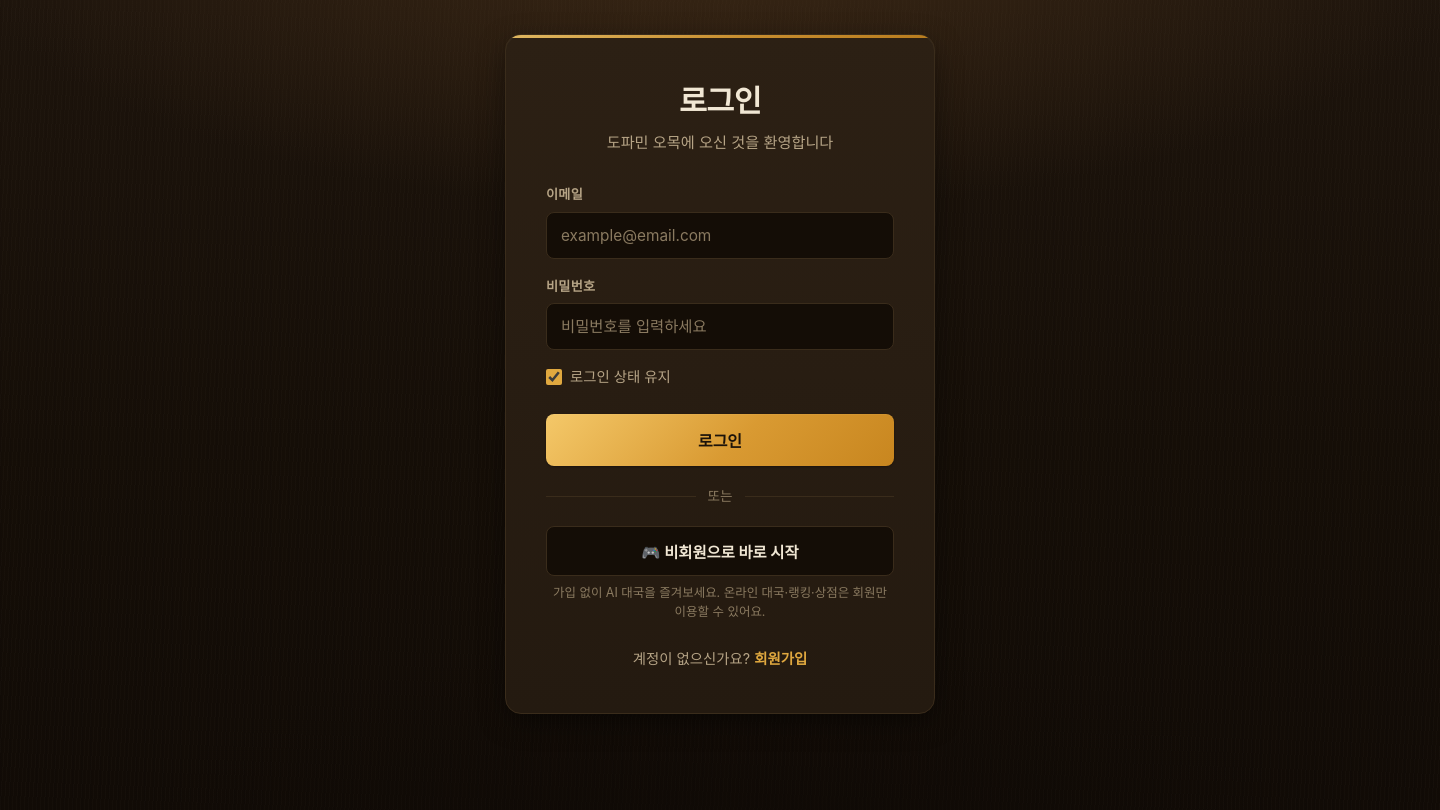
Test: LoginPage - 이메일 로그인 › 비밀번호가 틀리면(401) 아이디/비밀번호 불일치가 아닌 서버 상세 메시지를 노출하지 않는다
Type "test@test.com" into the field labelled "이메일".
click(720, 235); type("test@test.com")  # box [546,212,894,259]
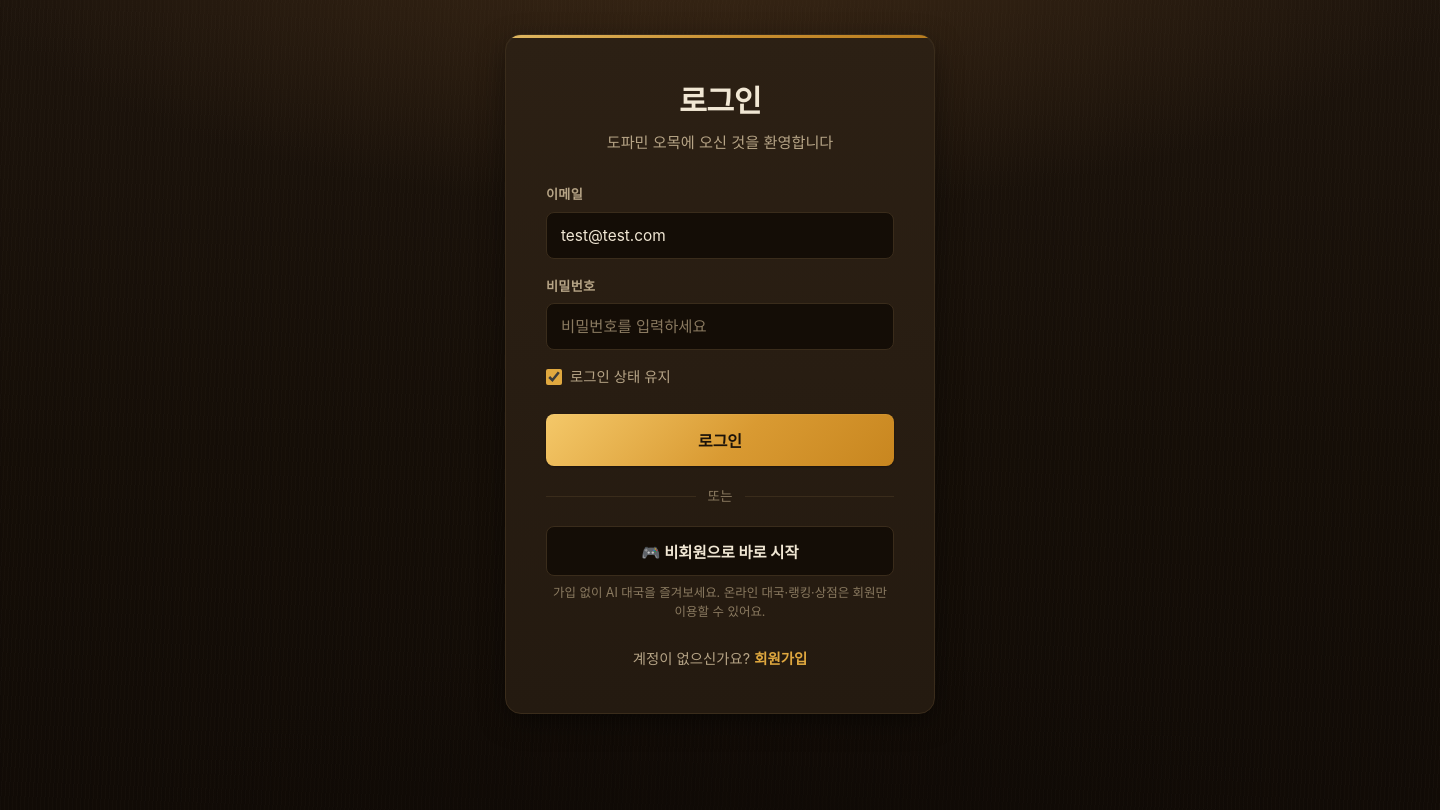
Type "wrong-password" into the password field labelled "비밀번호".
click(720, 327); type("wrong-password")  # box [546,303,894,350]
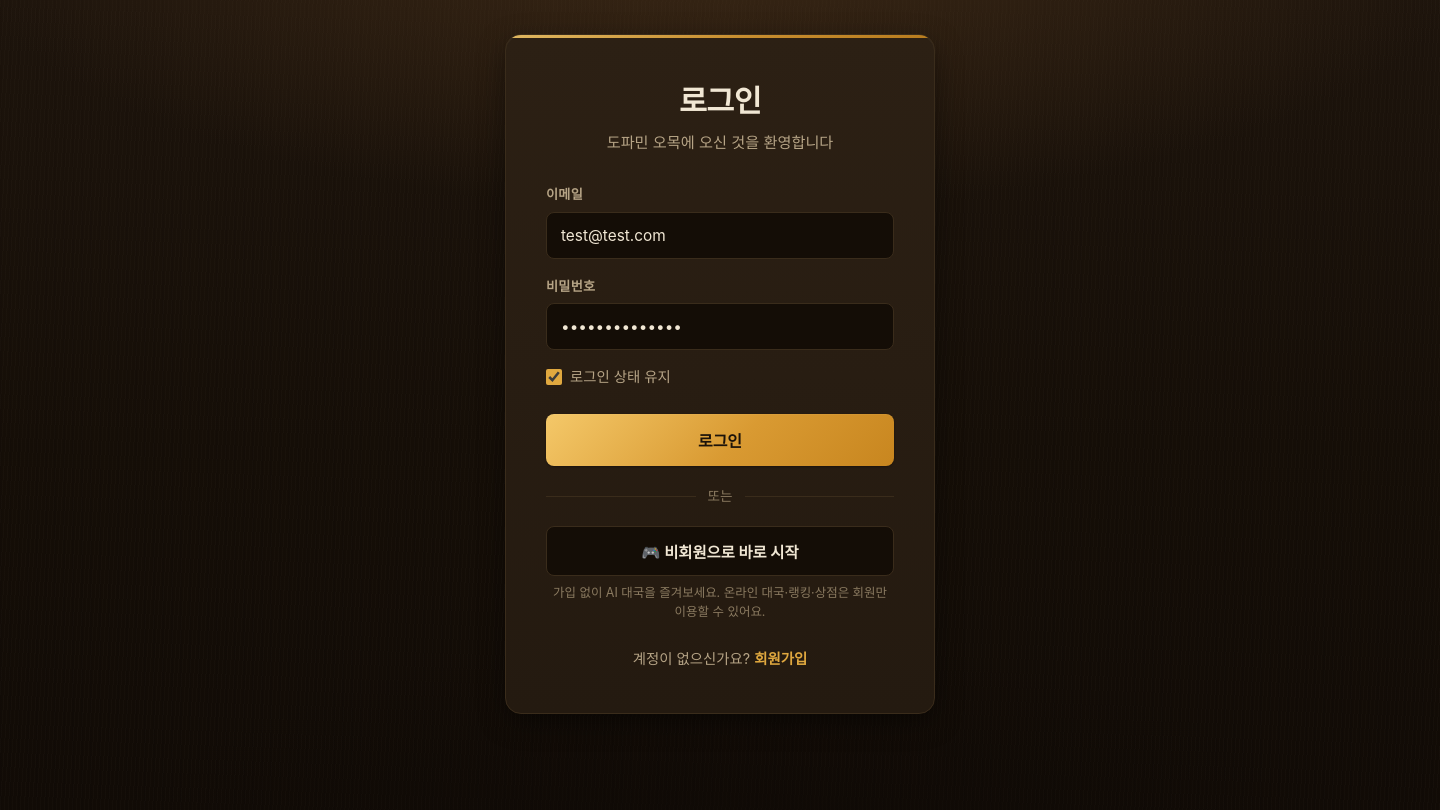
Click the button "로그인".
click(720, 440)  # box [546,414,894,466]
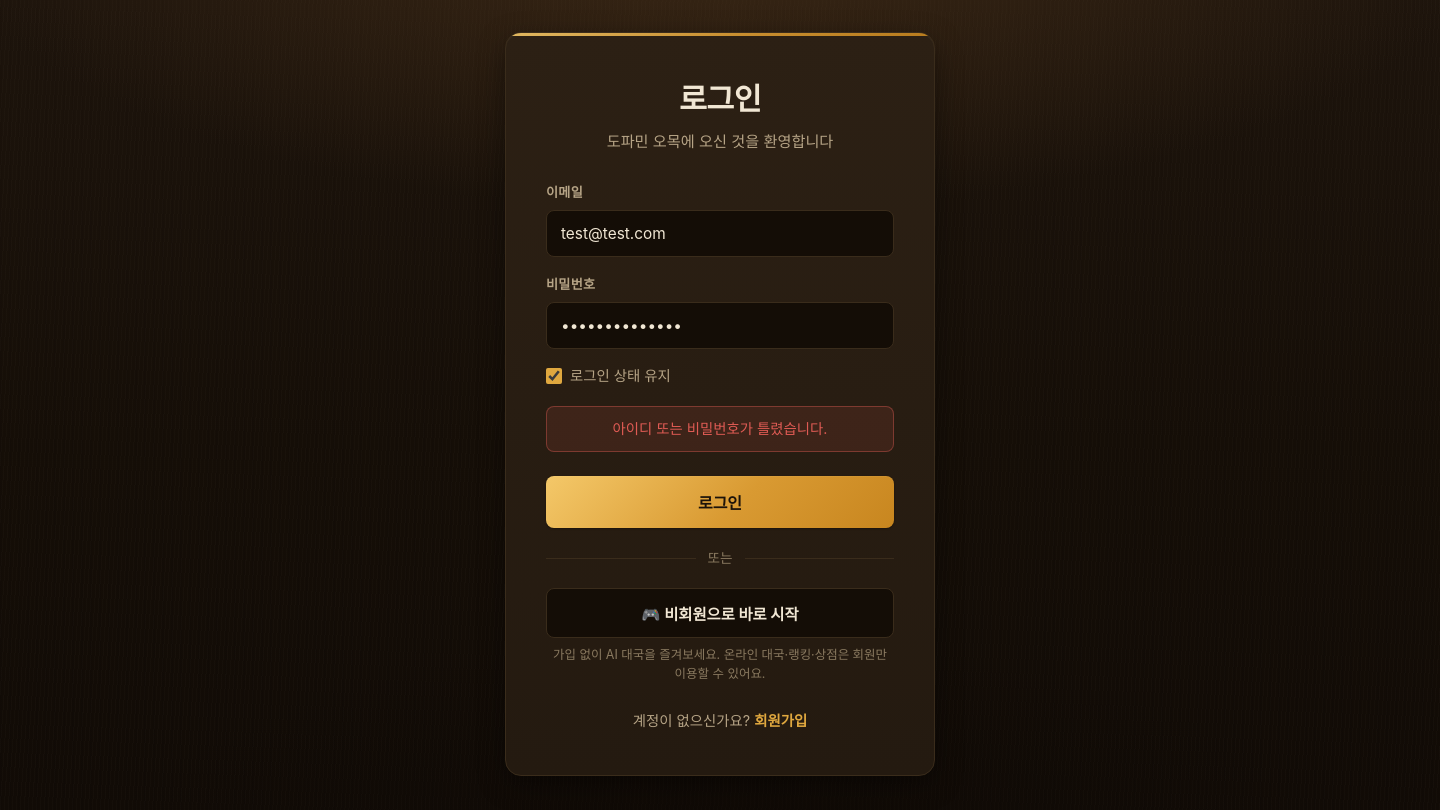
expect the text "아이디 또는 비밀번호가 틀렸습니다." is shown: met, box [546,406,894,452]
